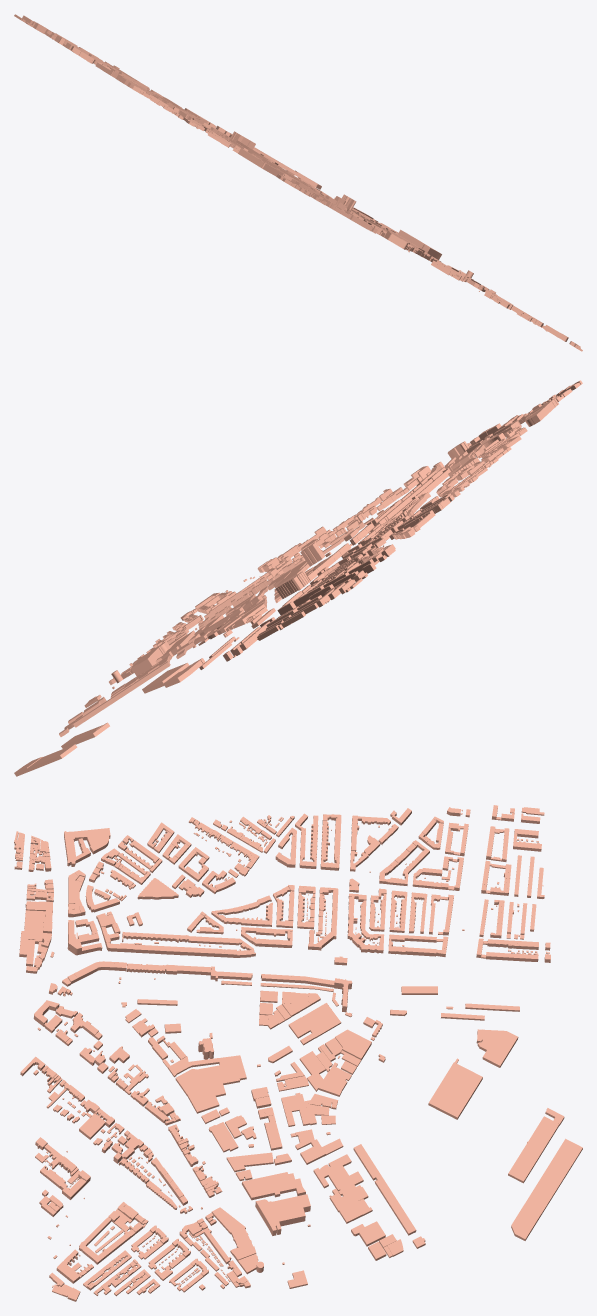
3 renders of one model, top to bottom at view 1: azimuth 30°, elevation 25°; view 2: azimuth 150°, elevation 25°; view 3: azimuth 270°, elevation 25°, orthographic. The views are drawn at different scales.
Size of the model in its own units: 1053 by 769 by 1298.
